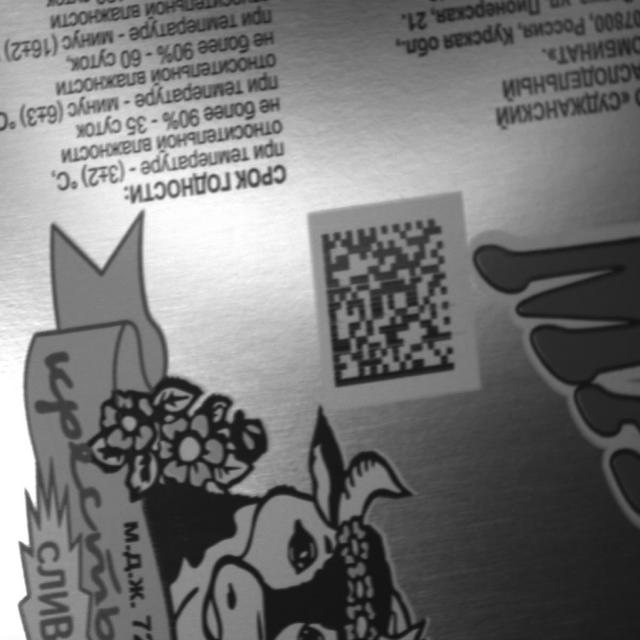datamatrix: (322, 219, 457, 389)
